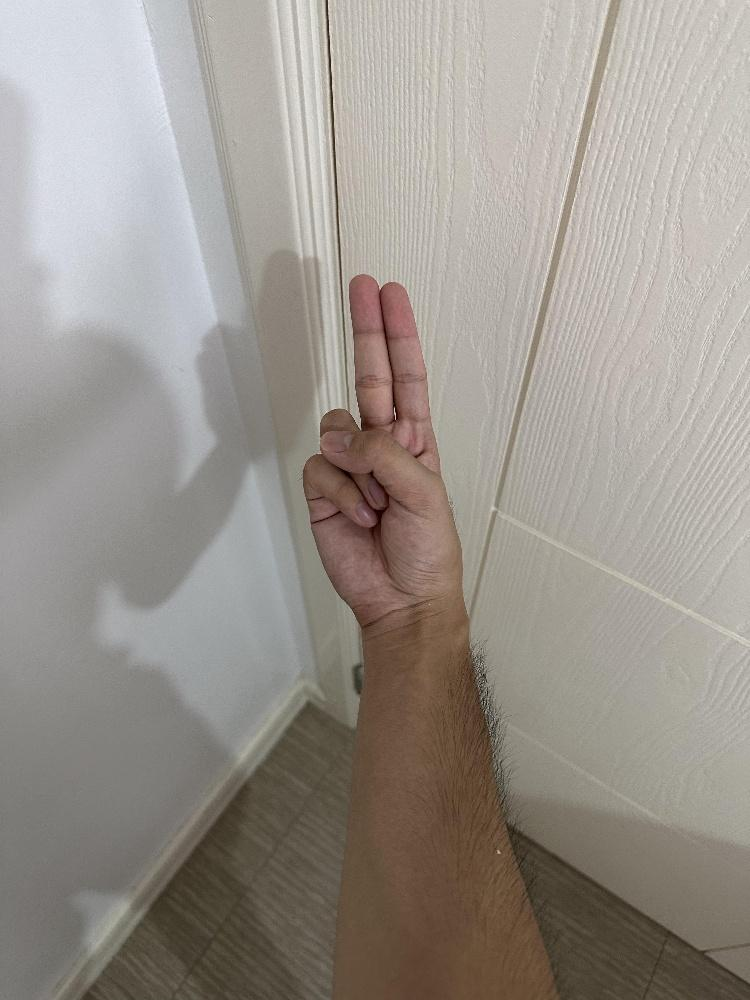u: (298, 270, 464, 624)
